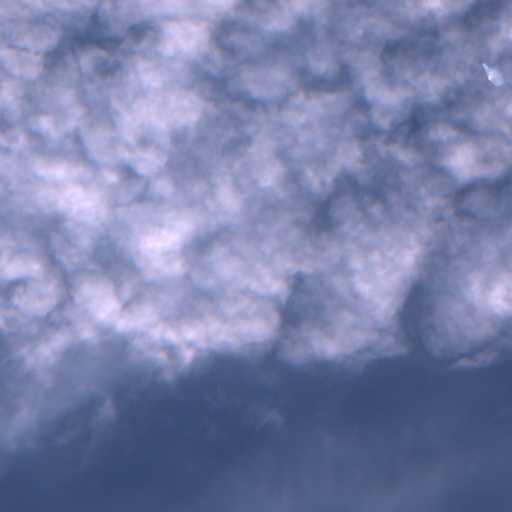Iceberg: (482, 63, 503, 86)
